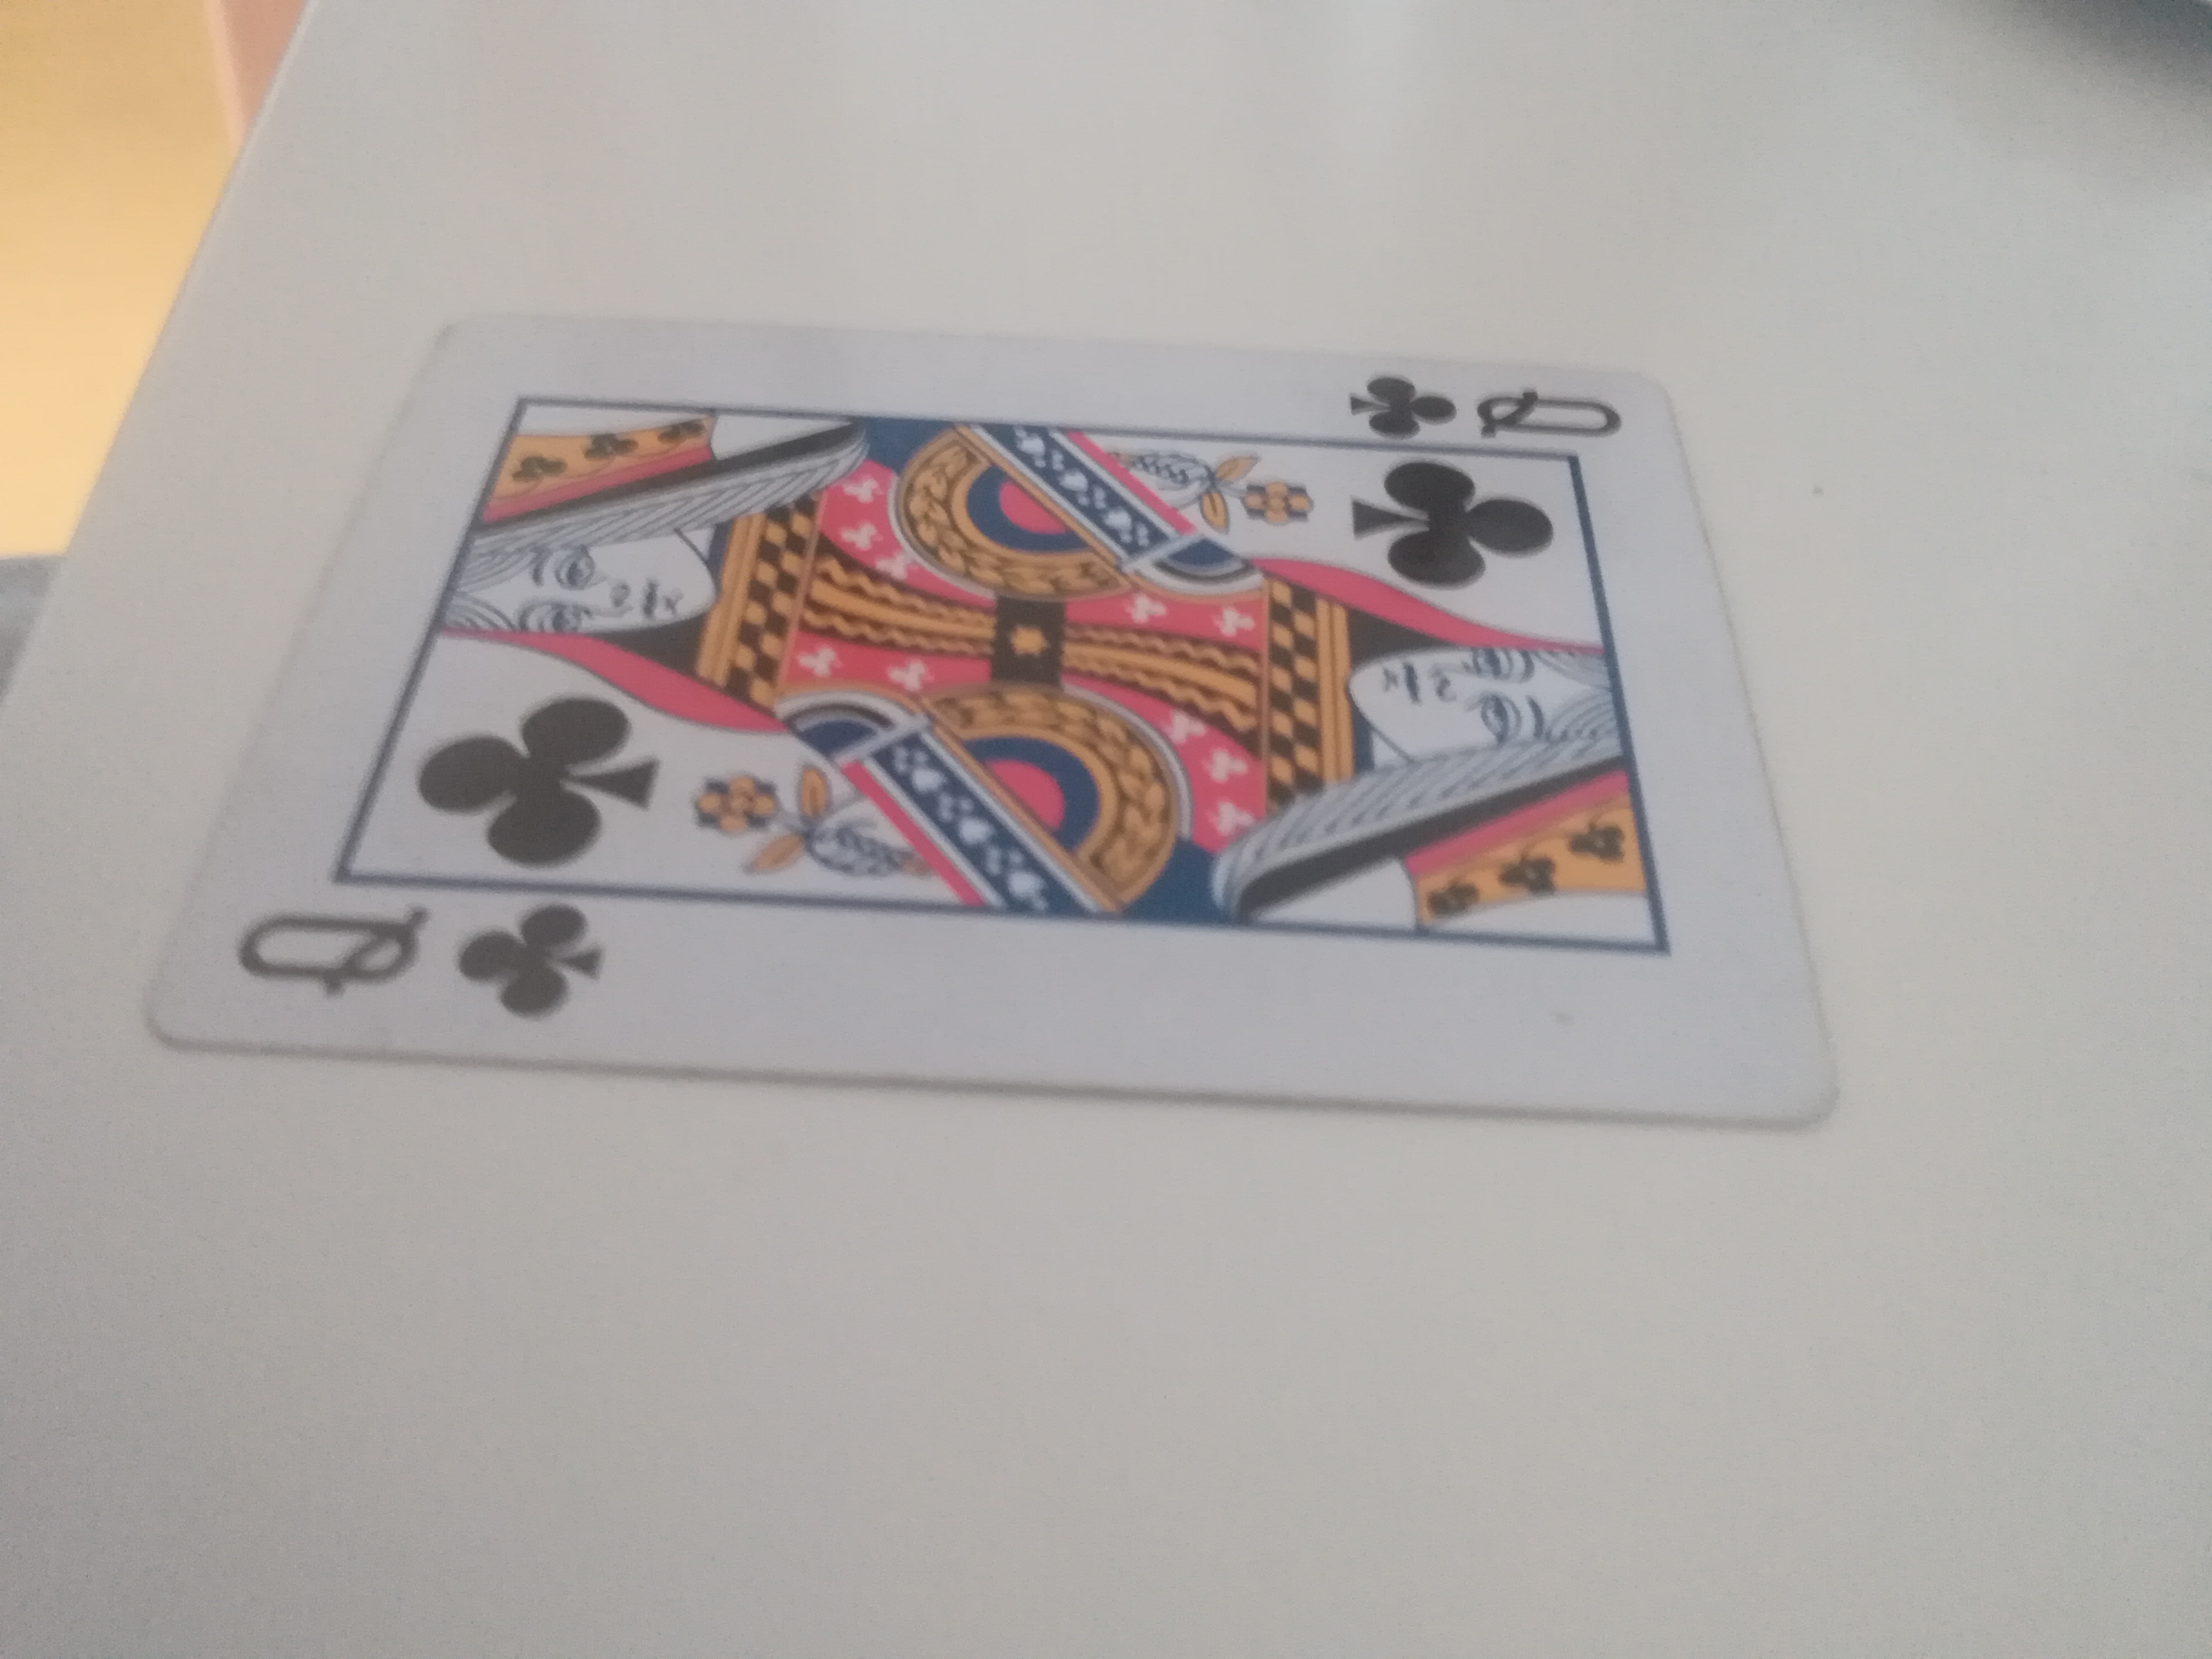QC: (171, 286, 1860, 1145)
